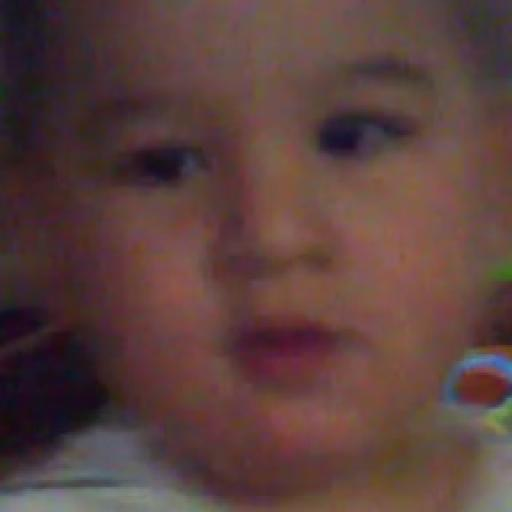Autism: (37, 0, 512, 512)
